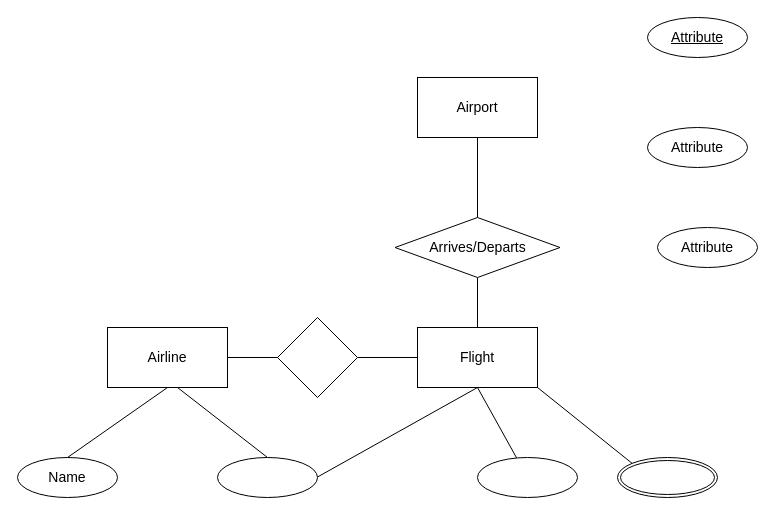
Some shapes in this 775 by 515 pixel diagram are drawn without their labels. The centre of each missing label's shape, as x and y in pixels:
Code: point (267, 477)
Days Of Flight: point (667, 477)
Number: point (527, 477)
Offers: point (317, 357)
